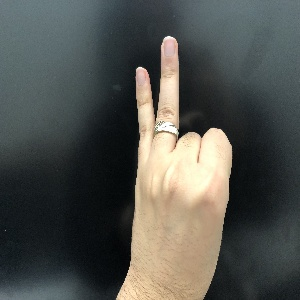hand: (131, 36, 231, 271)
